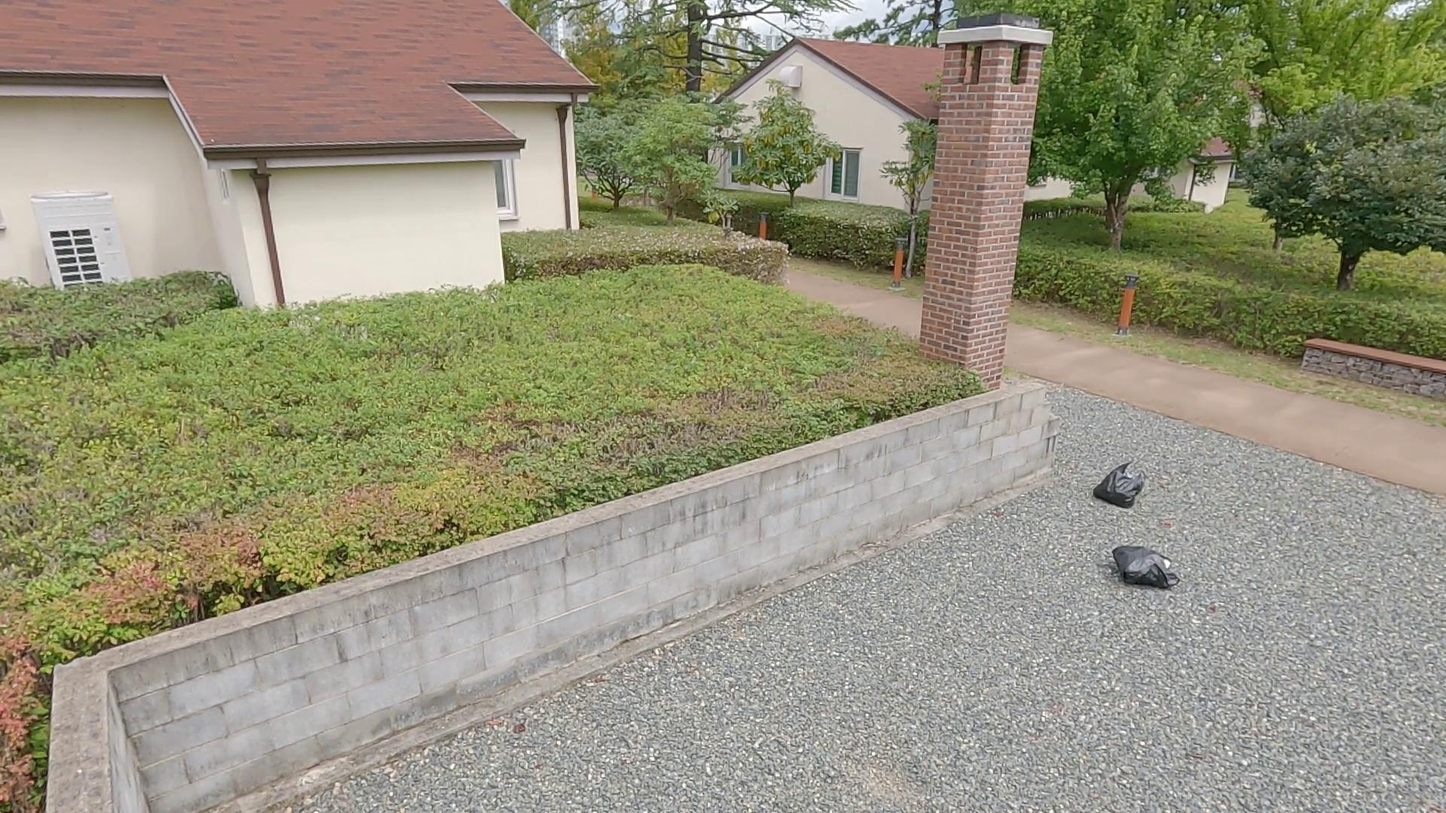trash: (1110, 539, 1184, 594), (1094, 458, 1145, 509)
